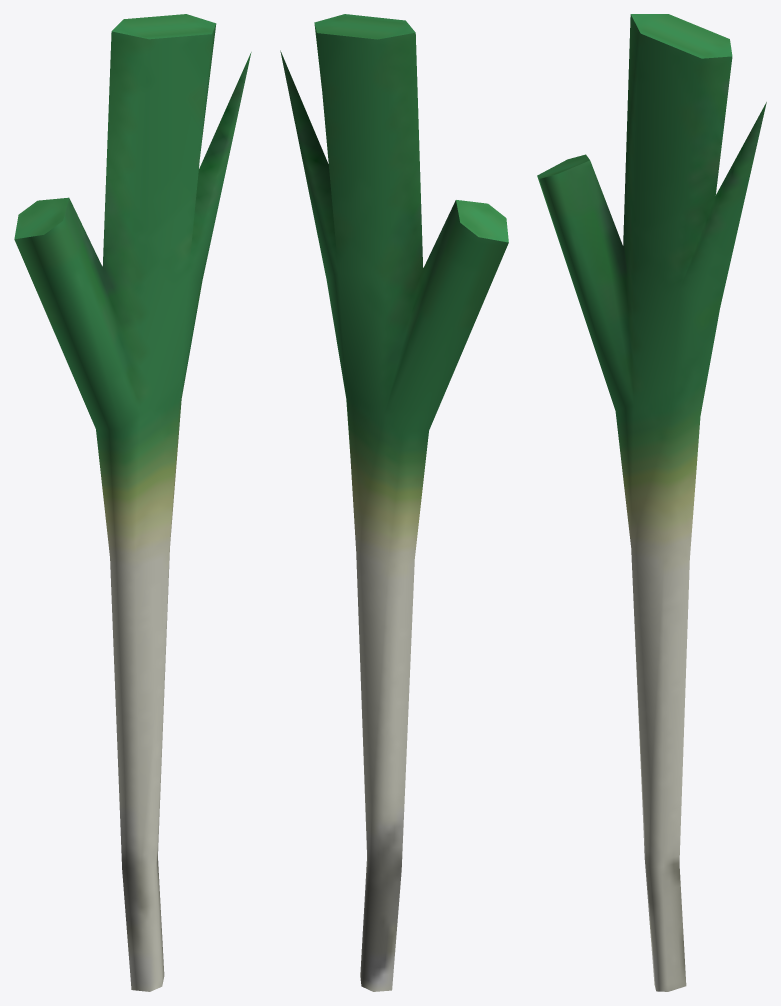
Rendered from Green_Onion_Weapon.fbx.
The picture shows the model from 3 angles, left to right: view 1: azimuth 30°, elevation 25°; view 2: azimuth 150°, elevation 25°; view 3: azimuth 330°, elevation 25°; orthographic projection.
Parts seen in each view (by area): view 1: Green_Onion; view 2: Green_Onion; view 3: Green_Onion.
Boxes of the visible parts, x1=… form: Green_Onion: x1=14, y1=14, x2=251, y2=991; Green_Onion: x1=280, y1=14, x2=508, y2=991; Green_Onion: x1=537, y1=14, x2=766, y2=991.
Bounding box in the file's own units: 52.74 × 208 × 11.61.
Materials: 1 (1 with a texture image).
